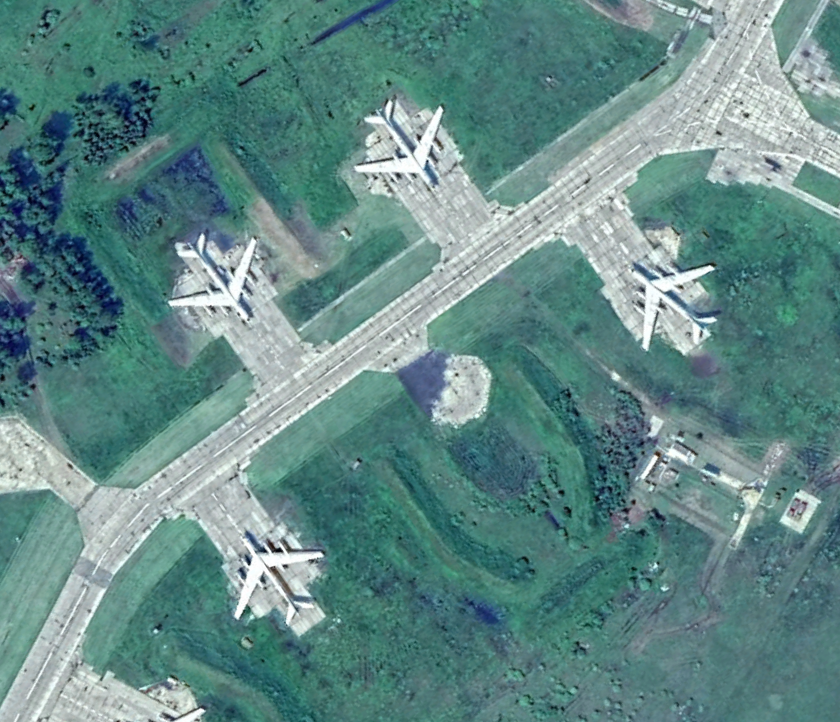A17: (227, 526, 327, 628), (349, 95, 451, 194), (621, 258, 722, 353), (165, 229, 262, 327)
